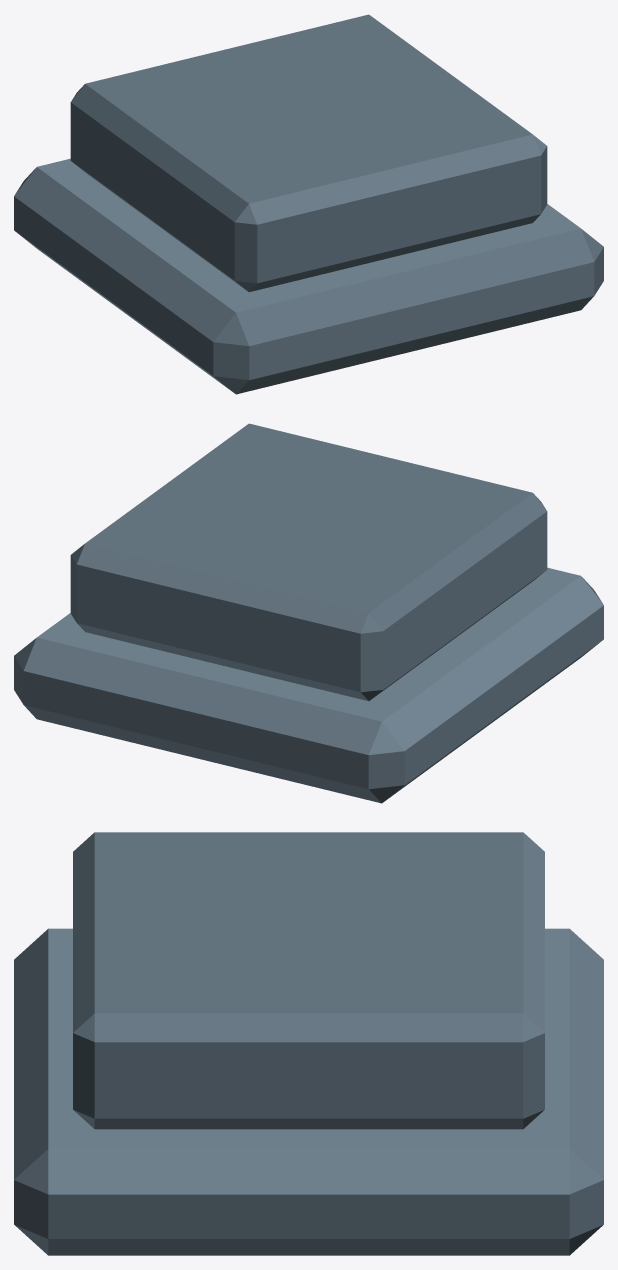
Rendered from A09_Column_Base.fbx.
The picture shows the model from 3 angles, top to bottom: view 1: azimuth 30°, elevation 25°; view 2: azimuth 150°, elevation 25°; view 3: azimuth 270°, elevation 25°; orthographic projection. The views are drawn at different scales.
Visible parts, largest first — view 1: A09_Column_Base; view 2: A09_Column_Base; view 3: A09_Column_Base.
Boxes of the visible parts, <box> form: A09_Column_Base: <box>14,14,603,394</box>; A09_Column_Base: <box>14,423,603,803</box>; A09_Column_Base: <box>14,832,603,1255</box>.
Bounding box in the file's own units: 0.6 × 0.25 × 0.6.
Materials: 1 (1 with a texture image).
